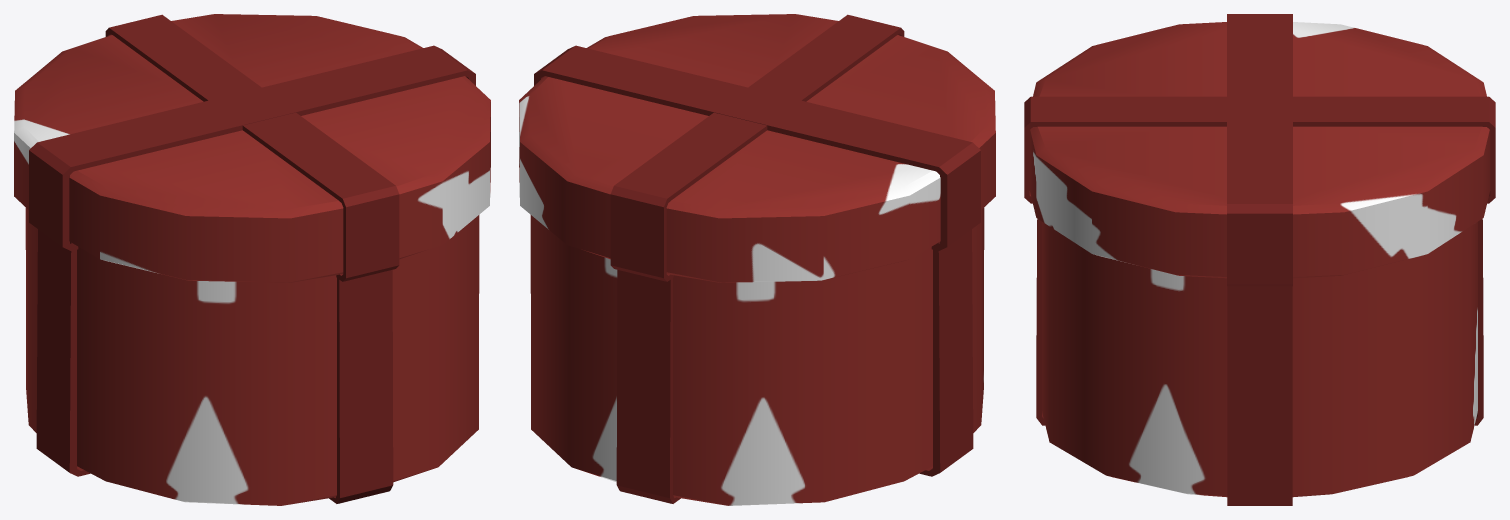
File: PresentBox_Cylinder_Medium_01.fbx
3 renders of one model, left to right at view 1: azimuth 30°, elevation 25°; view 2: azimuth 150°, elevation 25°; view 3: azimuth 270°, elevation 25°, orthographic.
Parts seen in each view (by area): view 1: PresentBox_Cylinder_Medium_01_Top, PresentBox_Cylinder_Medium_01; view 2: PresentBox_Cylinder_Medium_01_Top, PresentBox_Cylinder_Medium_01; view 3: PresentBox_Cylinder_Medium_01_Top, PresentBox_Cylinder_Medium_01.
Part boxes in pixels (x1,y1,x2,y2): PresentBox_Cylinder_Medium_01_Top: (14, 14, 490, 282); PresentBox_Cylinder_Medium_01: (25, 207, 479, 505); PresentBox_Cylinder_Medium_01_Top: (519, 14, 995, 282); PresentBox_Cylinder_Medium_01: (530, 207, 984, 505); PresentBox_Cylinder_Medium_01_Top: (1024, 14, 1495, 286); PresentBox_Cylinder_Medium_01: (1036, 219, 1483, 505).
Size of the model in its own units: 0.3631 by 0.2616 by 0.3658.
